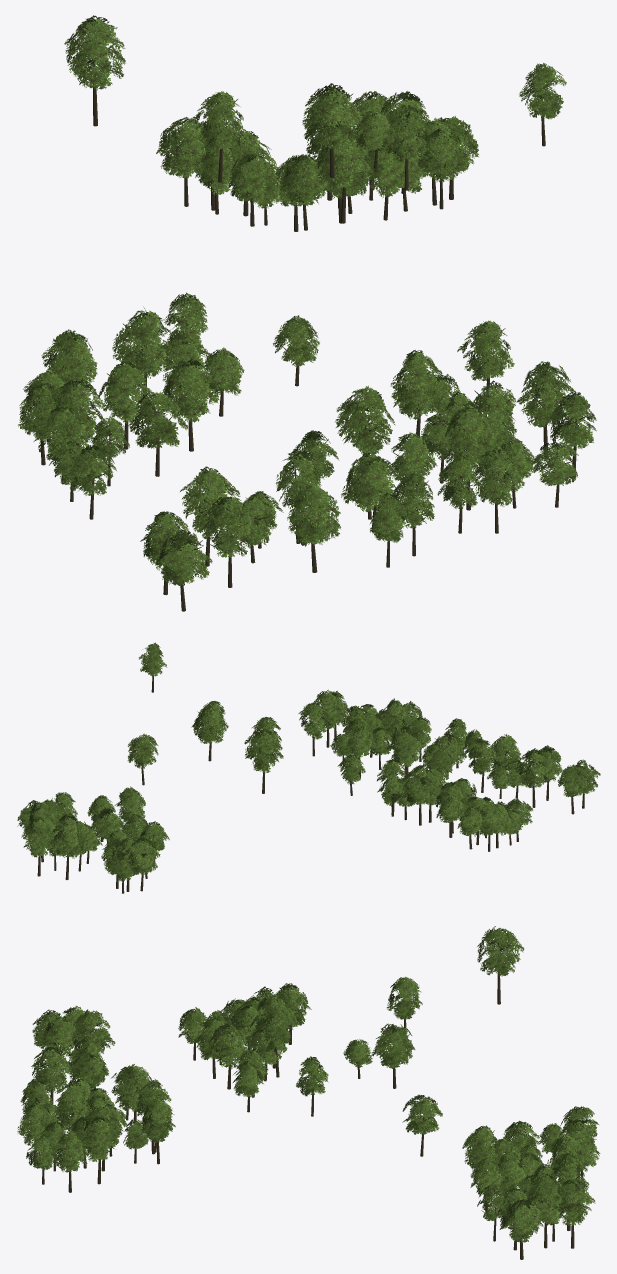
Rendered from TRB8-FOREST-CHUNK-6-2.glb.
3 renders of one model, top to bottom at view 1: azimuth 30°, elevation 25°; view 2: azimuth 150°, elevation 25°; view 3: azimuth 270°, elevation 25°, orthographic. The views are drawn at different scales.
Visible parts, largest first — view 1: TRB8-FOREST-CHUNK-6-2; view 2: TRB8-FOREST-CHUNK-6-2; view 3: TRB8-FOREST-CHUNK-6-2.
Boxes of the visible parts, box(x1,y1,x2,y2) form: TRB8-FOREST-CHUNK-6-2: box(18, 15, 596, 611); TRB8-FOREST-CHUNK-6-2: box(17, 642, 600, 893); TRB8-FOREST-CHUNK-6-2: box(17, 926, 600, 1259).
Bounding box in the file's own units: 39.3 × 17.76 × 42.96.
2 materials, 1 textured.
